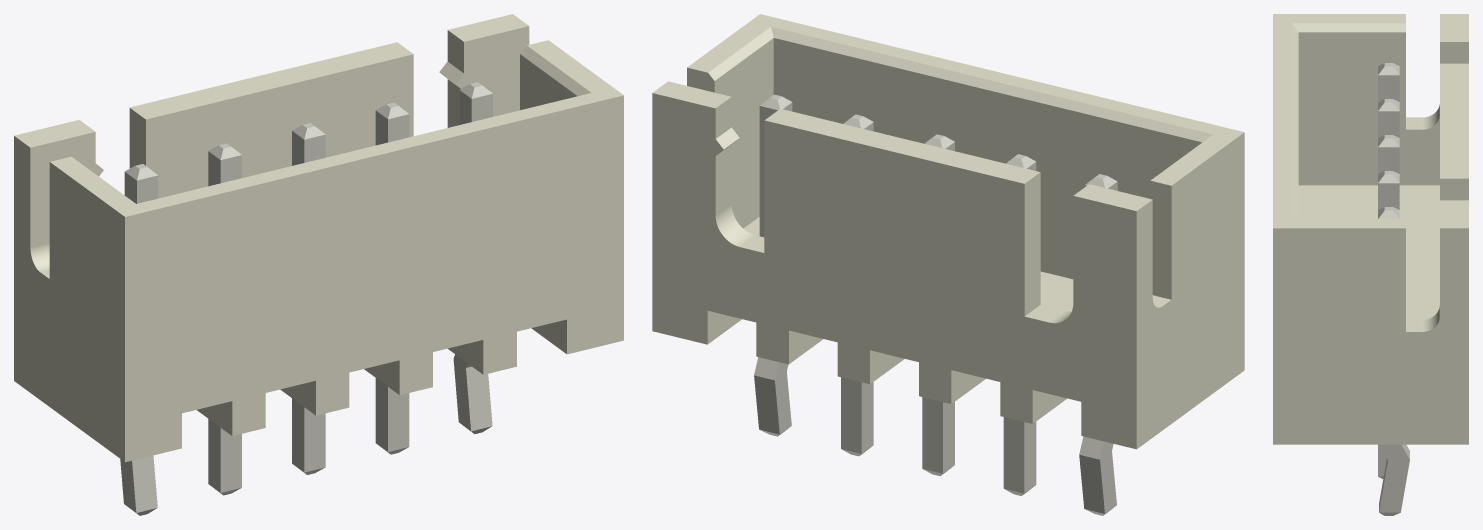
File: jst_xh_b5b_xh_a_1x05_p2_50mm_vertical.glb
3 renders of one model, left to right at view 1: azimuth 30°, elevation 25°; view 2: azimuth 150°, elevation 25°; view 3: azimuth 270°, elevation 25°, orthographic. The views are drawn at different scales.
Visible parts, largest first — view 1: conn_jst_xh_5p, pin_5, pin_4, pin_2, pin_3, pin_1; view 2: conn_jst_xh_5p, pin_2, pin_1, pin_5, pin_3, pin_4; view 3: conn_jst_xh_5p, pin_5.
Boxes of the visible parts, box(x1,y1,x2,y2) form: conn_jst_xh_5p: box(14, 14, 623, 462); pin_5: box(453, 354, 492, 434); pin_4: box(375, 378, 409, 454); pin_2: box(208, 419, 241, 495); pin_3: box(292, 398, 325, 474); pin_1: box(120, 455, 157, 515); conn_jst_xh_5p: box(652, 14, 1244, 449); pin_2: box(1003, 417, 1036, 495); pin_1: box(1079, 436, 1116, 515); pin_5: box(754, 357, 791, 436); pin_3: box(922, 397, 954, 476); pin_4: box(841, 377, 873, 456); conn_jst_xh_5p: box(1273, 14, 1468, 444); pin_5: box(1379, 444, 1409, 515).
Size of the model in its own units: 0.0149 by 0.0104 by 0.00575.
